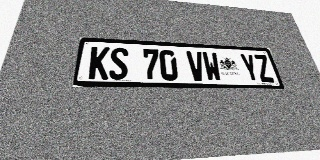0: (159, 50, 178, 81)
7: (142, 49, 160, 80)
K: (88, 46, 110, 79)
S: (109, 47, 128, 80)
V: (186, 51, 206, 81)
W: (202, 52, 222, 81)
Y: (239, 54, 261, 82)
Z: (253, 54, 275, 82)
